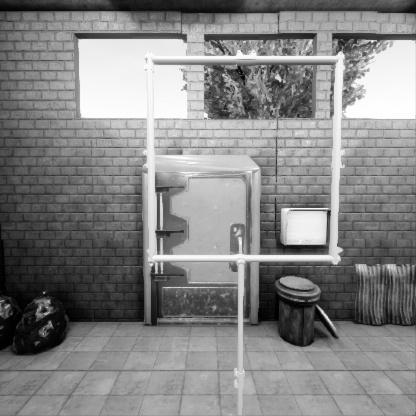gate: (142, 160, 359, 374)
